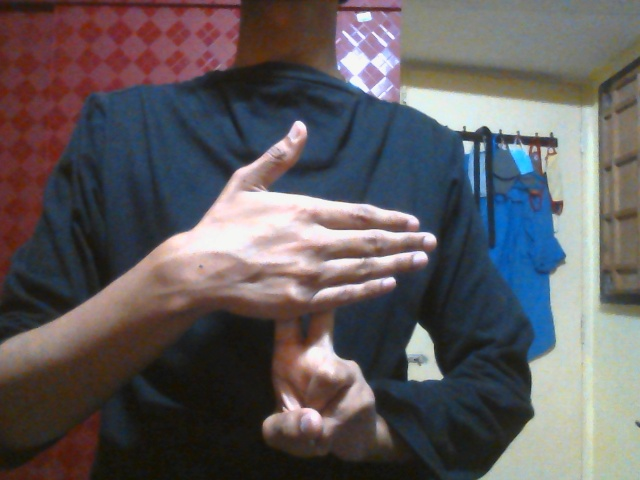N: (194, 121, 436, 464)
